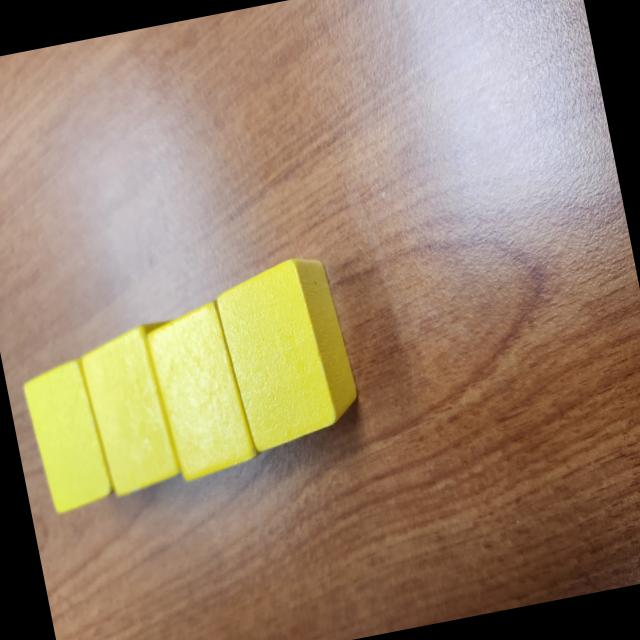yellow: (212, 252, 366, 454), (142, 298, 267, 488), (75, 318, 204, 501), (20, 358, 116, 517)
